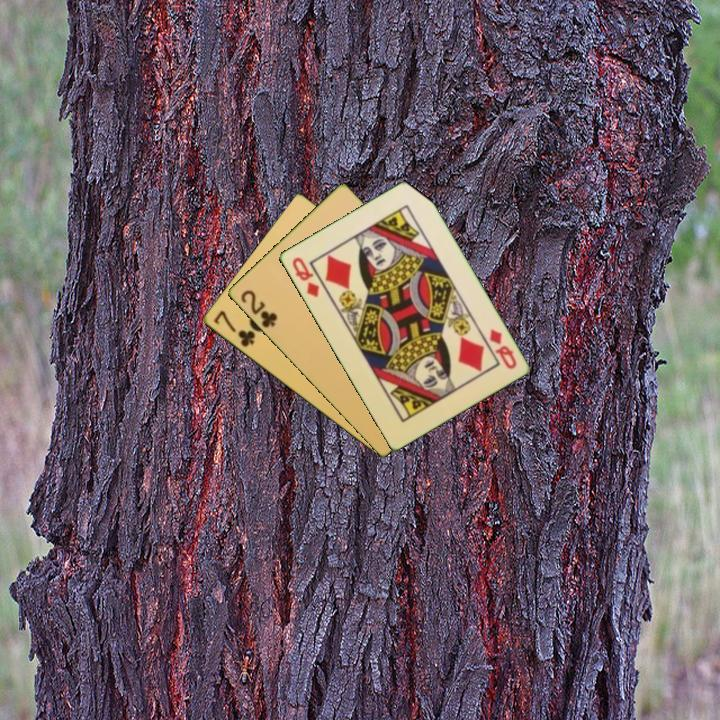2c: (237, 286, 280, 331)
7c: (209, 307, 258, 350)
Qd: (288, 253, 322, 300), (485, 325, 519, 372)
